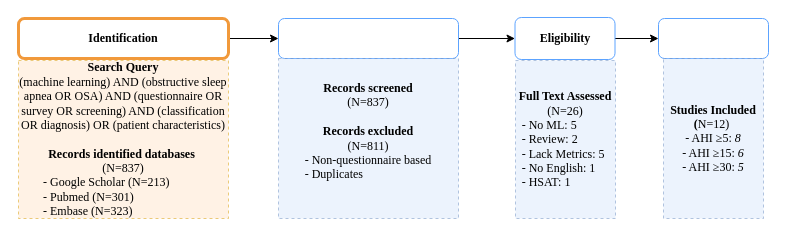
Some shapes in this 786 by 236 pixel diagram are drawn without their labels. Each missing label, with the centre of its shape:
"Included" goes at pixel 713 38.
"Screening" goes at pixel 368 38.
